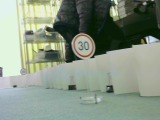speed_30: (68, 31, 97, 60)
